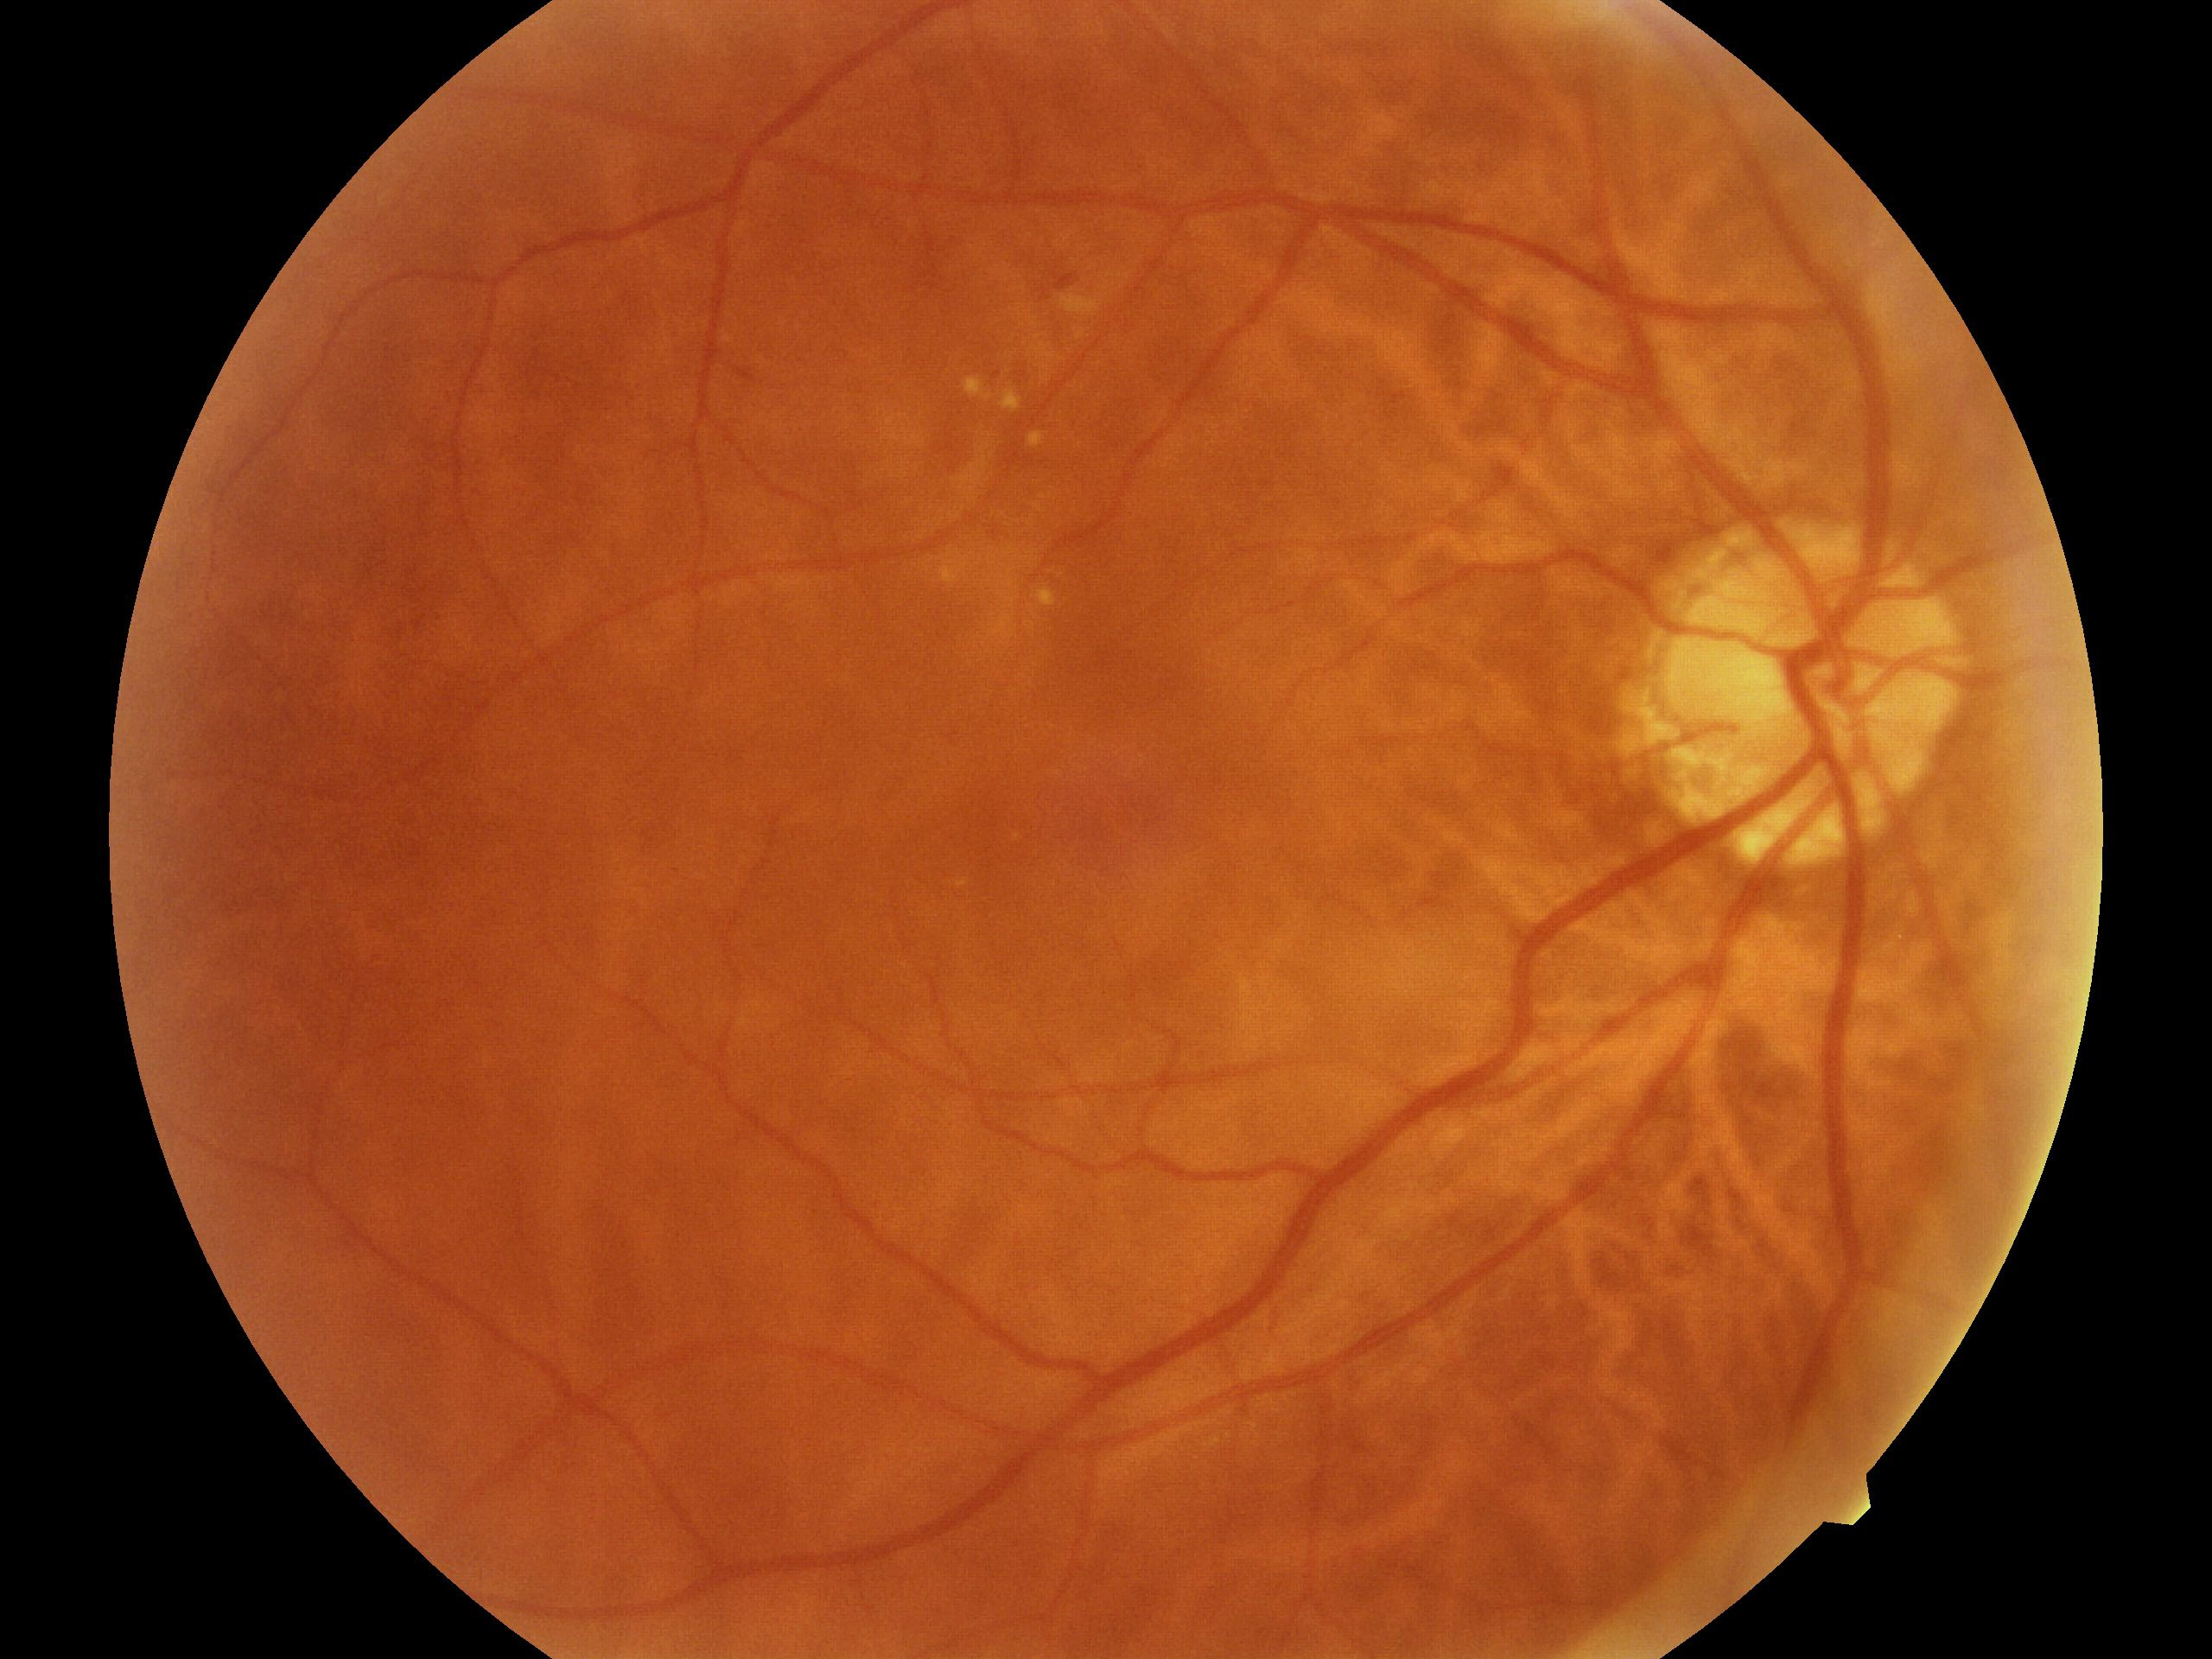Exudates: (972, 362, 1073, 620)
Optic-Disc: (1642, 495, 1980, 873)
Venules: (941, 1025, 1500, 1267), (1808, 938, 1888, 1237)
